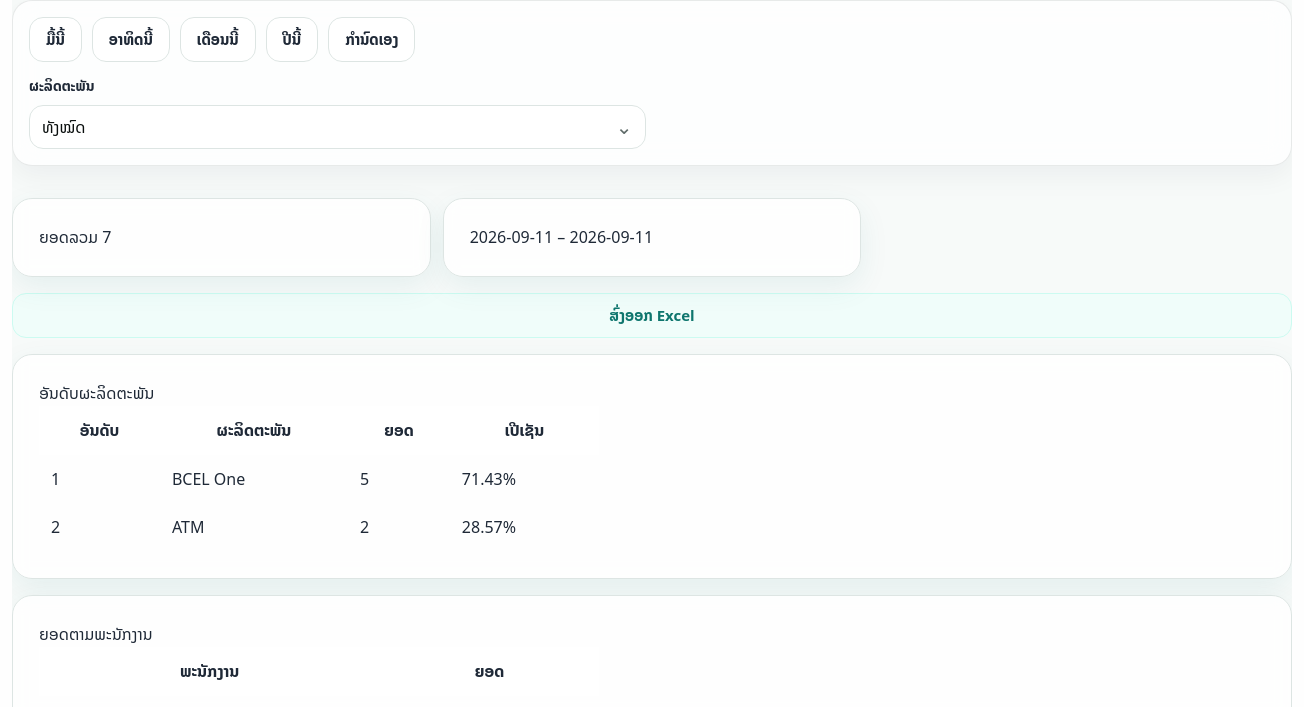
SalesReportPanel › does not label stale records as the newly selected range while it is loading
Expected: the text "ຍອດລວມ 7" is shown, [39,224,112,250]
Click the button "ອາທິດນີ້".
click(131, 40)  # box [92,17,170,62]
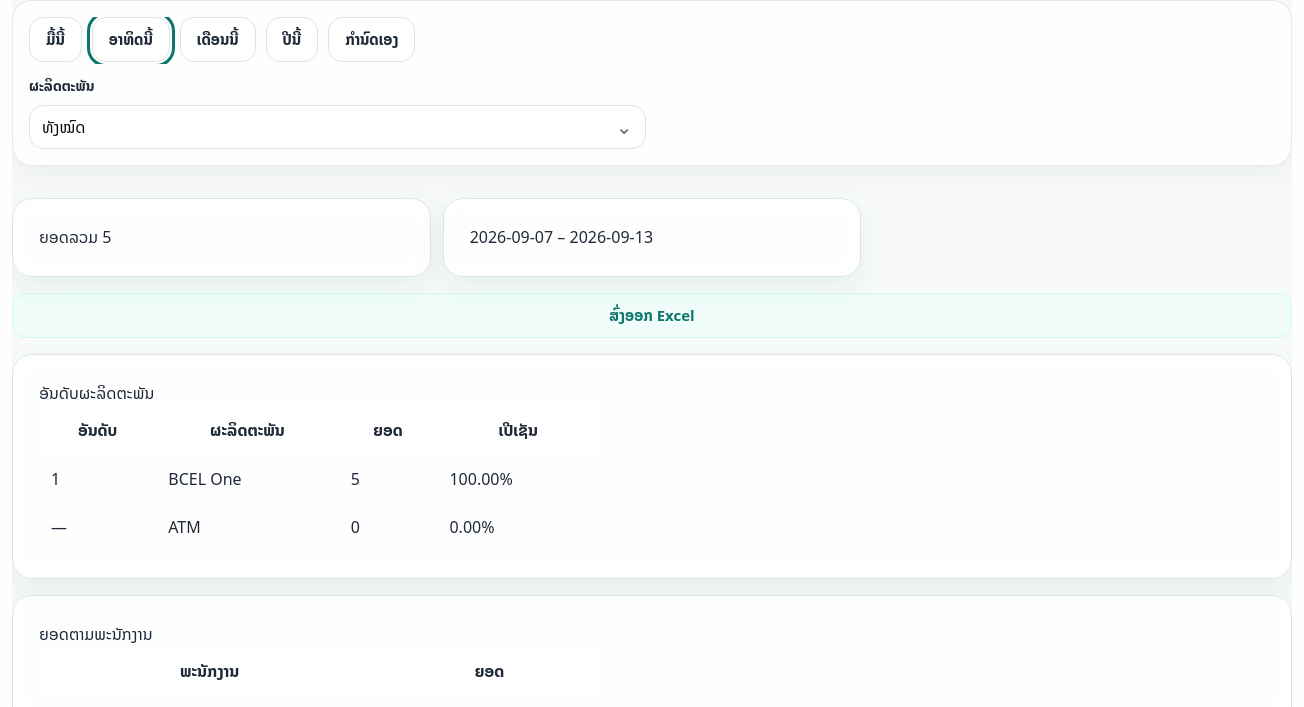
Expected: the text "ຍອດລວມ 7" is gone
Expected: the text "ຍອດລວມ 5" is shown, [39,224,112,250]
